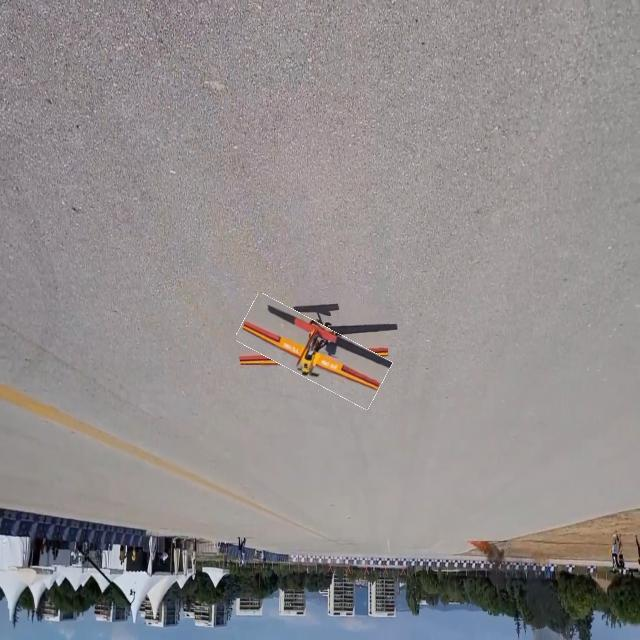UAV: (263, 288, 396, 454)
